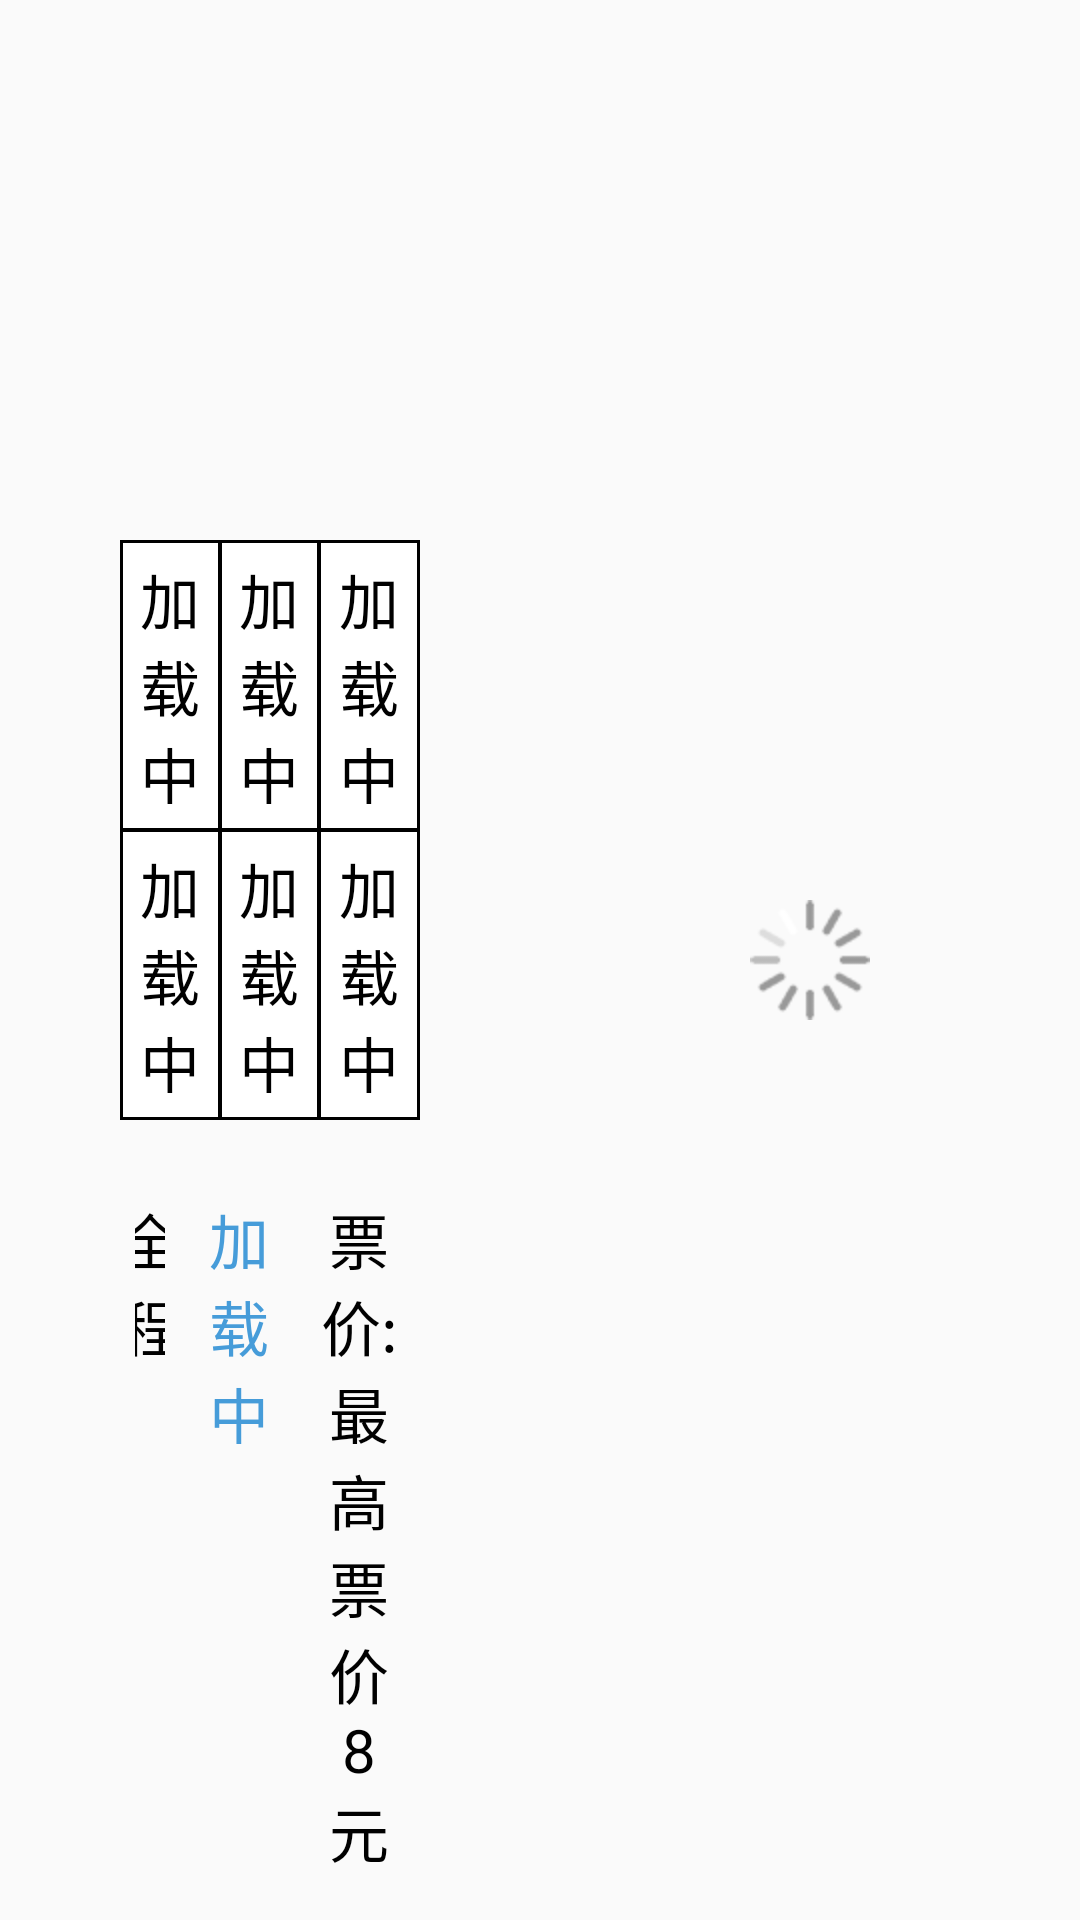

Named icons in this screenshot (1080×1920) and their centers, [x,y]:
loading: [810,960]
